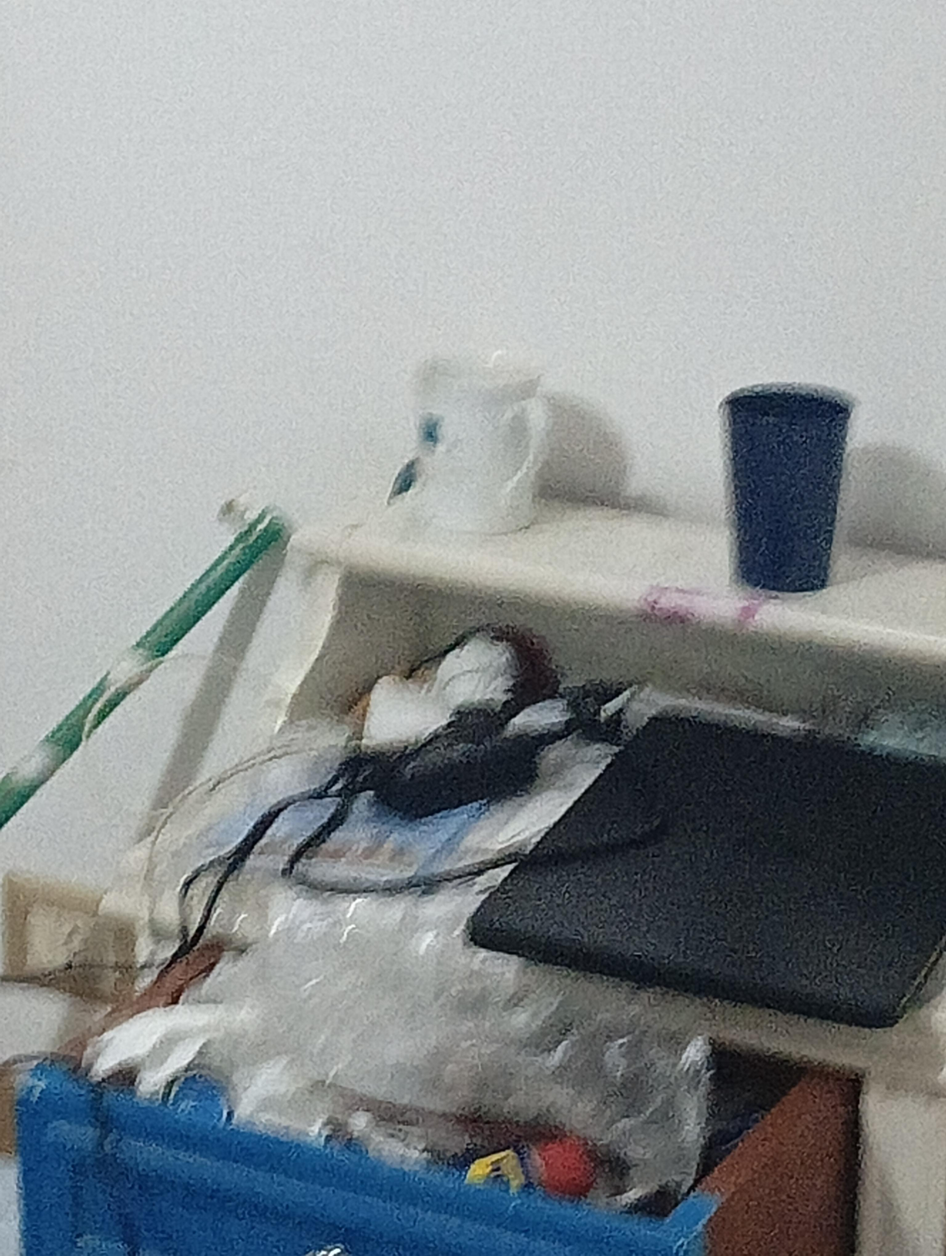cup: (720, 384, 854, 592), (407, 354, 545, 533)
